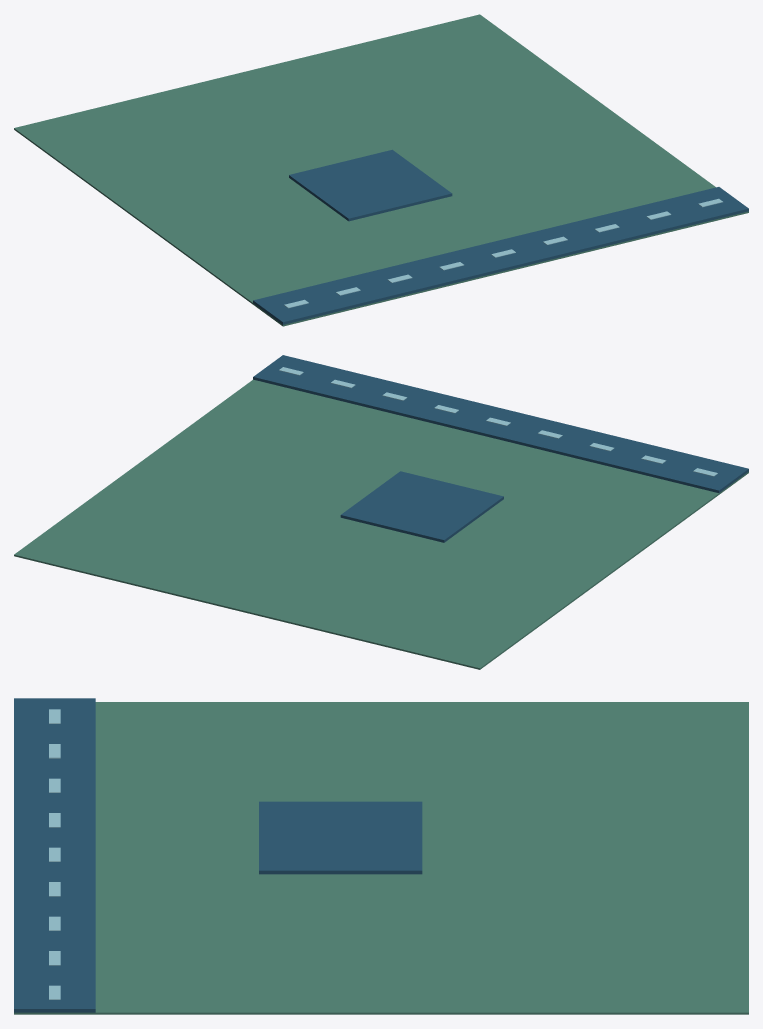
File: stage_01.glb
3 views of the same model, one above another, from view 1: azimuth 30°, elevation 25°; view 2: azimuth 150°, elevation 25°; view 3: azimuth 270°, elevation 25° (orthographic). The views are drawn at different scales.
Visible parts, largest first — view 1: geometry_0; view 2: geometry_0; view 3: geometry_0.
Boxes of the visible parts, bbox=[...] form: geometry_0: bbox=[14, 14, 748, 326]; geometry_0: bbox=[14, 355, 748, 669]; geometry_0: bbox=[14, 698, 748, 1014].
Size of the model in its own units: 9 by 0.091 by 9.
